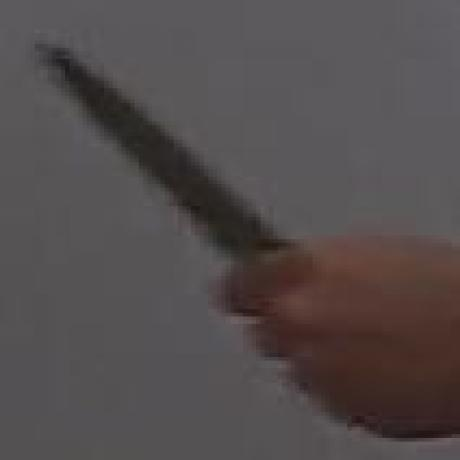1: (215, 217, 460, 460)
weapon: (32, 37, 282, 267)
